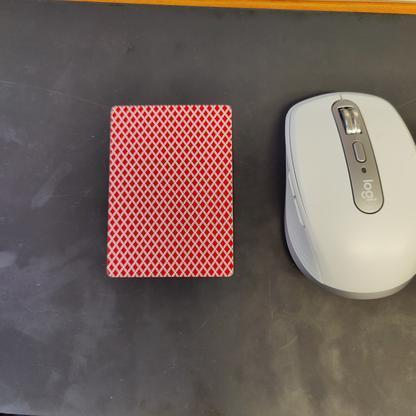card: (97, 92, 243, 279)
